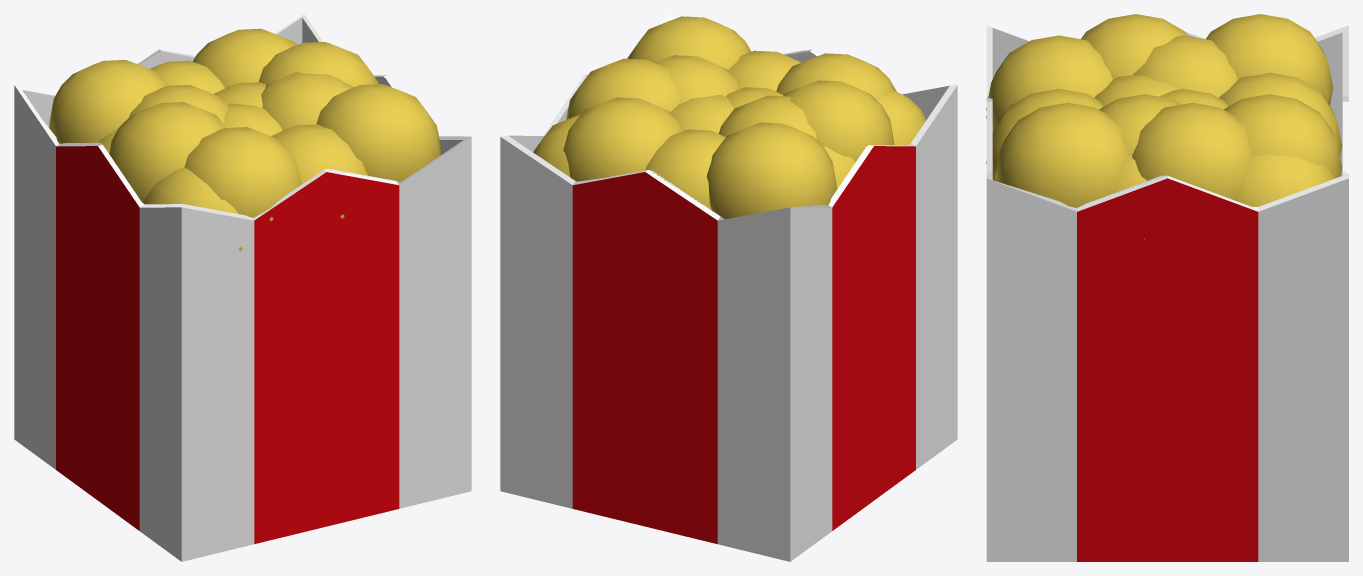
The model's file is Popcorn Cosmetic.fbx.
The picture shows the model from 3 angles, left to right: view 1: azimuth 30°, elevation 25°; view 2: azimuth 150°, elevation 25°; view 3: azimuth 270°, elevation 25°; orthographic projection. The views are drawn at different scales.
Visible parts, largest first — view 1: Cube.010; view 2: Cube.010; view 3: Cube.010.
Boxes of the visible parts, x1,y1,x2,y2 form: Cube.010: (14,14,471,561); Cube.010: (500,14,957,561); Cube.010: (986,14,1348,561).
Size of the model in its own units: 56.88 by 72.65 by 56.93.
